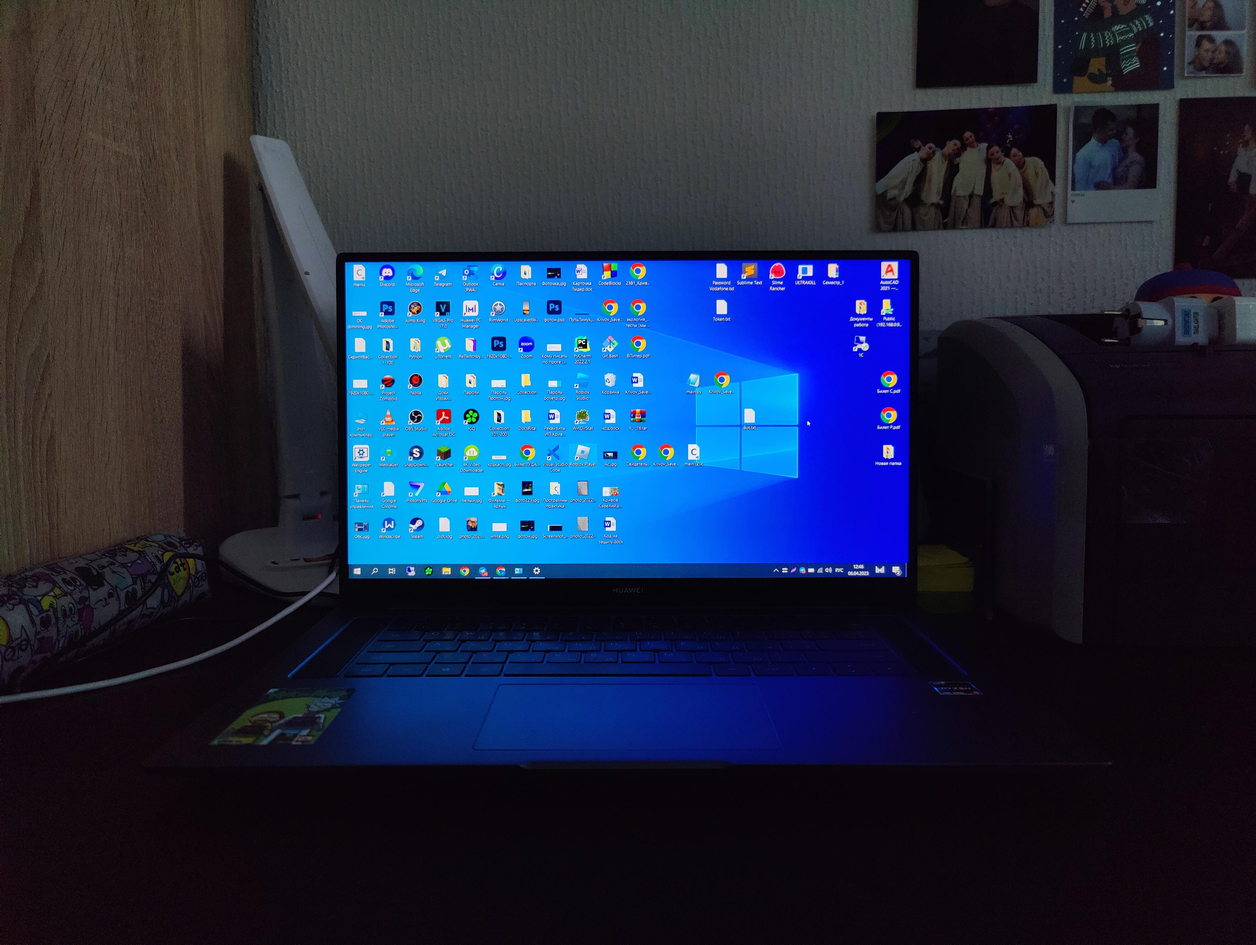monitor: (328, 243, 928, 611)
